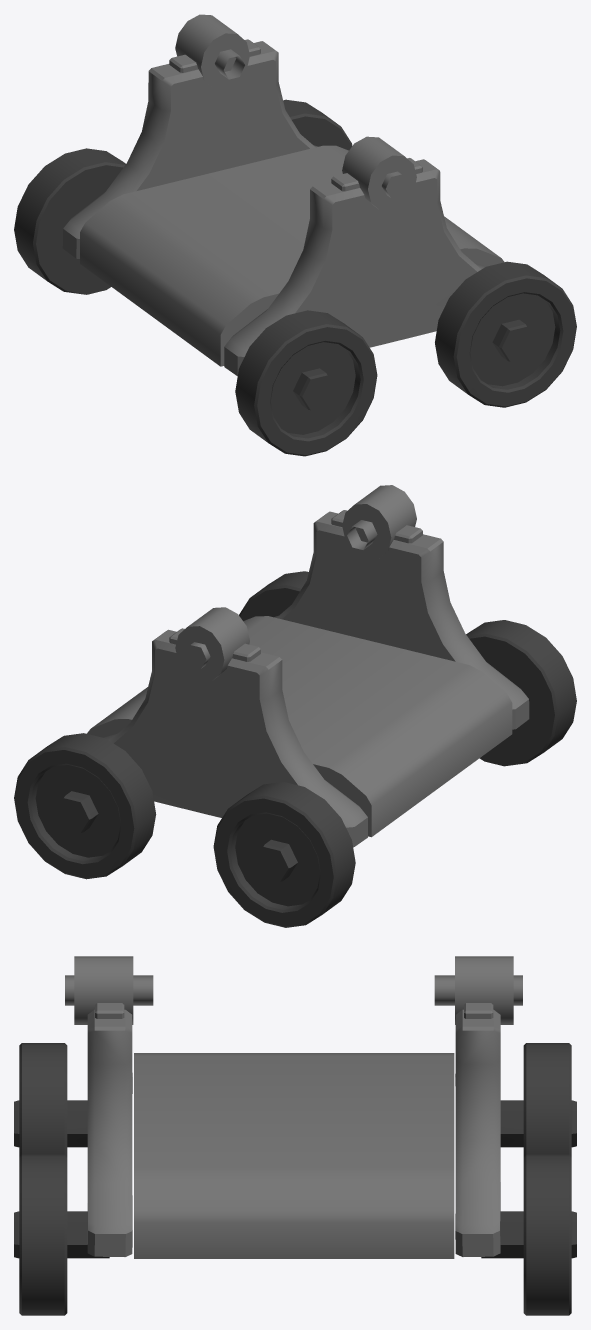
The model's file is cannon_paojia_model.FBX.
The picture shows the model from 3 angles, top to bottom: view 1: azimuth 30°, elevation 25°; view 2: azimuth 150°, elevation 25°; view 3: azimuth 270°, elevation 25°; orthographic projection. The views are drawn at different scales.
Visible parts, largest first — view 1: Box001, Cylinder004; view 2: Box001, Cylinder004; view 3: Box001, Cylinder004.
Part boxes in pixels (x1,y1,x2,y2): Box001: [62, 14, 504, 375]; Cylinder004: [14, 99, 576, 456]; Box001: [87, 485, 529, 847]; Cylinder004: [14, 571, 576, 927]; Box001: [65, 956, 522, 1258]; Cylinder004: [14, 1043, 576, 1315].
Bounding box in the file's own units: 106 × 80.74 × 141.
